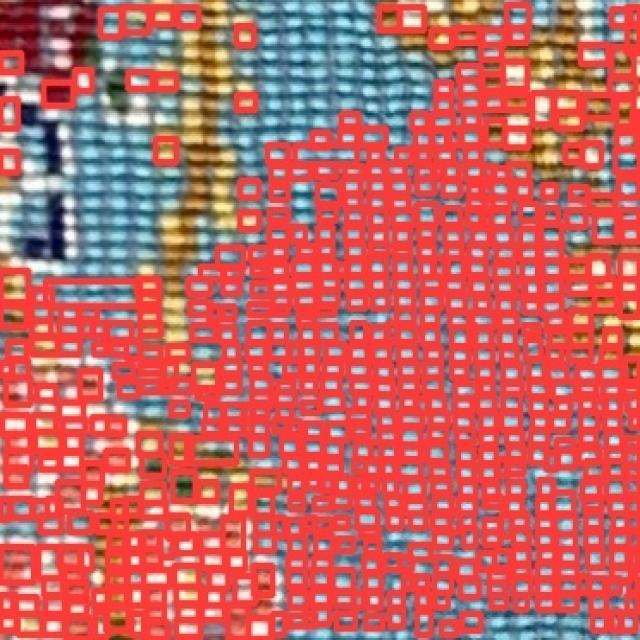Knot: (0, 270, 28, 304), (172, 472, 196, 502), (58, 483, 84, 510), (43, 82, 72, 106), (229, 604, 249, 638), (594, 214, 618, 242), (502, 63, 526, 90), (584, 95, 612, 118), (223, 518, 243, 550), (40, 546, 60, 578), (612, 47, 634, 76), (124, 8, 150, 32), (7, 378, 31, 404), (170, 436, 193, 463), (251, 470, 279, 492), (532, 94, 552, 124), (194, 366, 218, 391), (80, 372, 101, 400), (100, 10, 122, 36), (1, 306, 27, 328), (614, 150, 640, 172), (232, 485, 250, 515), (401, 8, 425, 30), (106, 606, 128, 630), (6, 450, 32, 470), (0, 99, 17, 129), (66, 618, 90, 639), (17, 614, 41, 635), (176, 567, 200, 588), (218, 247, 242, 268), (35, 433, 61, 452), (254, 567, 272, 594), (378, 8, 400, 30), (249, 618, 272, 639), (59, 547, 82, 568), (507, 6, 530, 27), (505, 128, 529, 148), (177, 586, 201, 606), (234, 578, 254, 602), (168, 516, 188, 540), (617, 100, 634, 128), (580, 46, 608, 63), (590, 194, 616, 212), (31, 338, 57, 356), (360, 128, 386, 146), (142, 456, 164, 477), (156, 139, 176, 162), (4, 415, 28, 434), (32, 414, 56, 433), (106, 323, 132, 340), (139, 434, 160, 455), (70, 512, 92, 532), (569, 327, 592, 346), (317, 185, 340, 204), (106, 452, 130, 470), (611, 78, 635, 96), (571, 310, 592, 330), (11, 498, 32, 518), (66, 582, 87, 602), (486, 122, 505, 144), (142, 485, 164, 504), (558, 112, 584, 128), (593, 292, 616, 310), (60, 402, 83, 420), (553, 380, 576, 398), (556, 94, 580, 111), (176, 621, 200, 638), (144, 570, 168, 587), (200, 534, 224, 551), (7, 434, 31, 451), (14, 597, 38, 614), (505, 94, 529, 111), (128, 72, 152, 89), (320, 393, 344, 410), (589, 257, 608, 278), (620, 257, 639, 278), (431, 29, 452, 48), (67, 597, 88, 616), (0, 53, 21, 72), (620, 297, 639, 318), (566, 260, 588, 278), (554, 516, 576, 534), (254, 494, 272, 516), (202, 606, 226, 622), (198, 482, 218, 501), (606, 479, 626, 498), (333, 571, 353, 590), (248, 323, 268, 342), (483, 73, 503, 92), (553, 494, 574, 512), (84, 463, 102, 484), (600, 365, 622, 382), (177, 8, 200, 24), (472, 312, 495, 328), (626, 358, 640, 384), (74, 71, 93, 90), (209, 569, 228, 588), (542, 226, 561, 245), (567, 209, 586, 228), (44, 577, 63, 596), (32, 303, 51, 322), (7, 468, 27, 486), (62, 419, 86, 434), (179, 604, 199, 622), (568, 279, 592, 294), (224, 404, 244, 422), (142, 504, 166, 519), (192, 326, 216, 341), (204, 588, 224, 606), (616, 132, 636, 150), (357, 510, 378, 527), (558, 578, 579, 595), (619, 278, 640, 295), (584, 144, 600, 166), (578, 448, 600, 464), (40, 516, 62, 532), (59, 321, 82, 336), (188, 279, 211, 294), (392, 210, 415, 225), (569, 345, 592, 360), (139, 347, 162, 362), (582, 481, 600, 500), (543, 260, 562, 278), (64, 433, 82, 452), (324, 439, 342, 458), (256, 533, 274, 552), (84, 484, 102, 503), (315, 536, 334, 554), (37, 384, 56, 402), (44, 618, 64, 635), (396, 326, 416, 343), (204, 551, 224, 568), (313, 606, 330, 626), (400, 461, 420, 478), (0, 152, 17, 172), (268, 145, 288, 162), (152, 8, 173, 24), (619, 180, 640, 196), (62, 454, 83, 470), (541, 244, 562, 260), (0, 595, 16, 616), (494, 550, 510, 571), (428, 444, 446, 462), (628, 25, 640, 52), (236, 27, 253, 46), (549, 328, 568, 345), (548, 366, 567, 383), (418, 205, 435, 224), (143, 531, 160, 550), (509, 164, 528, 181), (148, 621, 167, 638), (611, 549, 628, 568), (228, 552, 245, 571), (586, 461, 605, 478), (268, 226, 288, 242), (522, 260, 538, 280), (327, 424, 347, 440), (529, 360, 545, 380), (460, 80, 480, 96), (60, 338, 80, 354), (460, 64, 480, 80), (129, 586, 145, 606), (64, 566, 84, 582), (293, 260, 314, 275), (541, 301, 562, 316), (136, 280, 160, 293), (592, 280, 616, 293), (480, 46, 502, 60), (0, 612, 17, 630), (304, 438, 322, 455), (580, 414, 598, 431), (8, 342, 26, 359), (288, 570, 306, 587), (378, 412, 396, 429), (250, 438, 268, 455), (610, 496, 627, 514), (502, 412, 520, 429), (46, 597, 64, 614), (478, 553, 496, 570), (318, 325, 336, 342), (493, 228, 512, 244), (349, 362, 368, 378), (450, 312, 469, 328), (401, 428, 420, 444), (146, 588, 165, 604), (528, 382, 547, 398), (364, 572, 380, 591), (608, 460, 624, 479), (588, 548, 604, 567), (492, 208, 508, 227), (444, 207, 460, 226), (456, 562, 475, 578), (431, 130, 450, 146), (491, 180, 510, 196), (566, 144, 582, 163), (590, 593, 606, 612), (178, 533, 194, 552), (456, 428, 475, 444), (239, 214, 258, 230), (461, 614, 480, 630), (236, 96, 256, 111), (484, 29, 504, 44), (326, 344, 346, 359), (156, 75, 176, 90), (600, 348, 620, 363), (40, 456, 60, 471), (484, 96, 504, 111), (460, 95, 480, 110), (293, 279, 316, 292), (461, 130, 482, 144), (251, 246, 272, 260), (418, 613, 432, 634), (476, 347, 493, 364), (504, 394, 521, 411), (604, 414, 621, 431), (241, 181, 258, 198), (455, 414, 472, 431), (394, 258, 411, 275), (611, 530, 628, 547), (313, 571, 330, 588), (467, 209, 484, 226), (144, 548, 161, 565), (559, 593, 576, 610), (508, 498, 524, 516), (532, 446, 548, 464), (460, 582, 478, 598), (612, 514, 628, 532), (464, 148, 482, 164), (558, 450, 576, 466), (120, 382, 138, 398), (256, 516, 272, 534), (378, 428, 396, 444), (312, 132, 330, 148), (390, 178, 408, 194), (34, 288, 52, 304), (620, 612, 636, 630), (161, 534, 173, 558), (400, 413, 422, 426), (456, 29, 478, 42), (578, 367, 597, 382), (405, 481, 424, 496), (395, 276, 414, 291), (543, 280, 562, 295), (509, 27, 528, 42), (247, 345, 266, 360), (269, 343, 288, 358), (296, 294, 316, 308), (456, 384, 476, 398), (287, 518, 301, 538), (496, 246, 516, 260), (610, 11, 630, 25), (410, 546, 430, 560), (336, 614, 356, 628), (96, 613, 108, 636), (348, 412, 369, 425), (139, 322, 160, 335), (475, 330, 492, 346), (452, 328, 468, 345), (480, 413, 496, 430), (400, 362, 417, 378), (418, 178, 435, 194), (422, 327, 438, 344), (477, 365, 493, 382), (504, 364, 520, 381), (498, 297, 514, 314), (500, 328, 516, 345), (345, 226, 362, 242), (547, 314, 564, 330), (523, 278, 539, 295), (589, 579, 605, 596), (604, 396, 620, 413), (443, 180, 460, 196), (205, 404, 222, 420), (282, 439, 298, 456), (108, 418, 124, 435), (445, 228, 462, 244), (526, 341, 542, 358), (370, 326, 386, 343), (623, 226, 640, 242), (313, 590, 330, 606), (364, 556, 380, 573), (606, 433, 622, 450), (92, 418, 108, 435), (514, 577, 530, 594), (300, 325, 316, 342), (270, 325, 286, 342), (470, 280, 488, 295), (448, 296, 466, 311), (496, 279, 514, 294), (434, 115, 452, 130), (372, 346, 390, 361), (552, 415, 570, 430), (300, 344, 318, 359), (500, 347, 518, 362), (558, 534, 576, 549), (288, 556, 306, 571), (472, 230, 490, 245), (398, 346, 416, 361), (432, 478, 451, 492), (221, 360, 240, 374), (319, 292, 338, 306), (251, 378, 270, 392), (406, 500, 425, 514), (138, 292, 160, 304), (501, 512, 512, 536), (268, 209, 288, 222), (344, 165, 364, 178), (444, 279, 464, 292), (316, 164, 336, 177), (347, 278, 367, 291), (190, 302, 210, 315), (106, 554, 126, 567), (167, 346, 187, 359), (290, 165, 310, 178), (480, 448, 496, 464), (344, 178, 360, 194), (422, 310, 438, 326), (458, 448, 474, 464), (536, 498, 552, 514), (372, 292, 388, 308), (508, 446, 524, 462), (536, 516, 552, 532), (381, 444, 397, 460), (289, 538, 305, 554), (586, 514, 602, 530), (464, 111, 480, 127), (520, 228, 536, 244), (604, 330, 620, 346), (496, 264, 512, 280), (276, 404, 292, 420), (530, 398, 546, 414), (416, 130, 432, 146), (98, 516, 114, 532), (522, 206, 538, 222), (94, 590, 110, 606), (436, 558, 452, 574), (369, 259, 386, 274), (560, 549, 577, 564), (431, 464, 448, 479), (62, 306, 79, 321), (227, 418, 244, 433), (350, 346, 367, 361), (271, 166, 288, 181), (285, 457, 302, 472), (377, 395, 394, 410), (422, 294, 440, 308), (626, 476, 640, 494), (458, 498, 476, 512), (520, 246, 538, 260), (396, 294, 414, 308), (402, 446, 420, 460), (490, 568, 508, 582), (396, 310, 414, 324), (108, 592, 126, 606), (612, 566, 630, 580), (592, 612, 606, 630), (351, 380, 372, 392), (538, 564, 556, 578), (322, 378, 340, 392), (80, 548, 92, 569), (146, 606, 164, 620), (126, 498, 140, 516), (324, 362, 342, 376), (132, 615, 144, 636), (602, 382, 620, 396), (606, 448, 624, 462), (620, 210, 639, 223), (387, 165, 406, 178), (253, 393, 272, 406), (346, 209, 365, 222), (31, 322, 50, 335), (276, 393, 295, 406), (370, 211, 386, 226), (452, 348, 468, 363), (508, 482, 524, 497), (512, 530, 528, 545), (478, 396, 494, 411), (412, 114, 428, 129), (538, 532, 554, 547), (474, 297, 490, 312), (480, 464, 496, 479), (483, 483, 499, 498), (512, 549, 528, 564), (542, 209, 558, 224), (412, 575, 428, 590), (170, 380, 190, 392), (458, 464, 474, 479), (220, 328, 236, 343), (466, 163, 482, 178), (460, 482, 476, 497), (512, 514, 527, 530), (443, 164, 459, 179), (484, 531, 500, 546), (508, 460, 524, 475), (326, 460, 342, 475), (109, 534, 125, 549), (441, 621, 457, 636), (586, 532, 602, 547), (539, 548, 555, 563), (434, 531, 450, 546), (354, 395, 370, 410), (532, 415, 548, 430), (515, 183, 531, 198), (450, 514, 462, 534), (424, 362, 441, 376), (346, 244, 363, 258), (504, 382, 521, 396), (469, 262, 486, 276), (469, 246, 486, 260), (369, 196, 386, 210), (224, 266, 241, 280), (500, 314, 517, 328), (531, 430, 548, 444), (376, 382, 393, 396), (289, 592, 306, 606), (112, 502, 126, 519), (449, 259, 463, 276), (352, 324, 366, 341), (436, 576, 450, 593), (401, 380, 418, 394), (540, 480, 554, 497), (424, 378, 441, 392), (493, 198, 510, 212), (129, 570, 143, 587), (580, 382, 597, 396), (304, 459, 322, 472), (422, 277, 440, 290), (114, 366, 132, 379), (336, 594, 354, 607), (108, 574, 126, 587), (78, 306, 96, 319), (200, 268, 223, 278), (140, 310, 159, 322), (272, 615, 284, 634), (559, 566, 578, 578), (464, 529, 476, 548), (388, 323, 400, 342), (434, 258, 446, 277), (164, 364, 176, 383), (372, 230, 387, 245), (427, 347, 442, 362), (356, 444, 370, 460), (318, 226, 334, 240), (624, 382, 640, 396), (581, 432, 597, 446), (430, 428, 446, 442), (290, 226, 304, 242), (538, 582, 554, 596), (366, 592, 382, 606), (484, 518, 500, 532), (461, 514, 475, 530), (306, 424, 322, 438), (252, 404, 268, 418), (626, 450, 640, 466), (468, 196, 484, 210), (342, 114, 358, 128), (584, 496, 600, 510), (304, 360, 318, 376), (410, 514, 426, 528), (344, 194, 360, 208), (436, 82, 452, 96), (388, 610, 402, 626), (290, 476, 304, 492), (418, 226, 434, 240), (12, 362, 28, 376), (338, 538, 354, 552), (436, 98, 452, 112), (321, 277, 338, 290), (272, 280, 289, 293), (456, 398, 473, 411), (224, 282, 241, 295), (271, 187, 288, 200), (204, 420, 221, 433), (320, 208, 337, 221), (314, 557, 331, 570), (537, 597, 554, 610), (348, 296, 366, 308), (340, 132, 358, 144), (434, 498, 452, 510), (488, 584, 506, 596), (628, 514, 640, 532), (377, 364, 392, 378), (350, 260, 364, 275), (141, 382, 162, 392), (452, 364, 467, 378), (430, 396, 444, 411), (524, 299, 538, 314), (580, 397, 594, 412), (396, 228, 410, 243), (353, 422, 368, 436), (224, 345, 238, 360), (390, 593, 404, 608), (0, 500, 10, 521), (514, 594, 528, 609), (126, 343, 140, 358), (547, 346, 561, 361), (386, 555, 400, 570), (434, 593, 448, 608), (252, 284, 271, 295), (370, 278, 386, 291), (320, 261, 336, 274), (418, 165, 434, 178), (92, 323, 108, 336), (571, 187, 587, 200), (491, 596, 507, 609), (249, 305, 272, 314), (333, 496, 350, 508), (371, 244, 388, 256), (384, 479, 396, 496), (432, 516, 449, 528), (34, 501, 46, 518), (223, 380, 240, 392), (436, 150, 453, 162), (290, 344, 302, 361), (129, 533, 141, 550), (172, 404, 189, 416), (394, 246, 411, 258), (383, 459, 395, 476), (628, 531, 640, 548), (578, 577, 590, 594), (198, 388, 218, 398), (273, 518, 284, 536), (318, 305, 336, 316), (546, 452, 557, 470), (420, 262, 434, 276), (336, 478, 350, 492), (159, 380, 173, 394), (253, 422, 267, 436), (388, 514, 402, 528), (319, 244, 333, 258), (369, 148, 383, 162), (446, 130, 460, 144), (364, 478, 378, 492), (480, 380, 494, 394), (493, 168, 508, 181), (402, 396, 417, 409), (270, 264, 286, 276), (392, 198, 408, 210), (274, 294, 290, 306), (270, 246, 286, 258), (628, 8, 640, 24), (334, 518, 350, 530), (366, 616, 382, 628), (250, 362, 266, 374), (114, 518, 126, 534), (370, 180, 386, 192), (284, 362, 300, 374), (48, 500, 60, 516), (512, 566, 528, 578), (446, 246, 462, 258), (628, 498, 640, 514), (397, 150, 413, 162), (416, 398, 428, 414), (372, 441, 382, 460), (626, 594, 637, 611), (497, 459, 508, 476), (140, 365, 163, 373), (370, 165, 384, 178), (93, 343, 107, 356), (468, 185, 482, 198), (542, 184, 556, 197), (366, 462, 380, 475), (624, 439, 638, 452), (628, 396, 640, 411), (507, 432, 522, 444), (81, 321, 93, 336), (556, 440, 574, 450), (612, 612, 622, 630), (417, 593, 429, 608), (609, 578, 621, 593), (298, 246, 316, 256), (360, 528, 380, 537), (482, 165, 494, 180), (274, 418, 286, 433), (129, 552, 141, 567), (354, 458, 366, 473), (314, 498, 331, 508), (314, 520, 331, 530), (303, 402, 320, 412), (252, 266, 269, 276), (357, 498, 374, 508), (430, 414, 447, 424), (290, 498, 304, 510), (302, 380, 316, 392), (319, 478, 333, 490), (387, 496, 401, 508), (482, 432, 496, 444), (416, 150, 430, 162), (366, 540, 380, 552), (420, 246, 434, 258), (1, 362, 13, 376), (514, 280, 525, 295), (353, 594, 364, 609), (306, 478, 322, 488), (110, 344, 126, 354), (290, 616, 306, 626), (276, 382, 292, 392), (299, 316, 315, 326), (223, 306, 235, 319), (628, 465, 640, 478), (354, 480, 366, 493), (432, 165, 444, 178), (401, 557, 413, 570), (595, 400, 606, 414), (305, 518, 316, 532), (630, 553, 638, 572), (210, 305, 220, 320), (628, 579, 638, 594), (404, 575, 414, 590), (482, 184, 492, 199), (299, 306, 315, 315), (486, 497, 500, 507), (556, 402, 570, 412), (290, 422, 300, 436), (244, 404, 254, 418), (482, 209, 490, 226), (420, 441, 428, 458), (306, 614, 317, 626), (336, 264, 347, 276), (523, 324, 539, 332), (274, 306, 288, 315), (631, 415, 640, 428), (244, 421, 253, 434), (632, 112, 639, 128), (469, 326, 476, 339)
